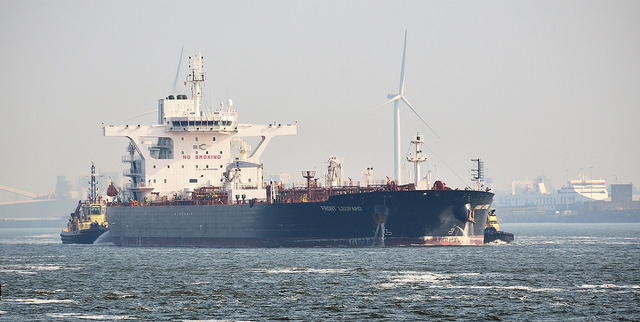tanker: (103, 48, 501, 252)
tug_boat: (62, 168, 107, 242)
